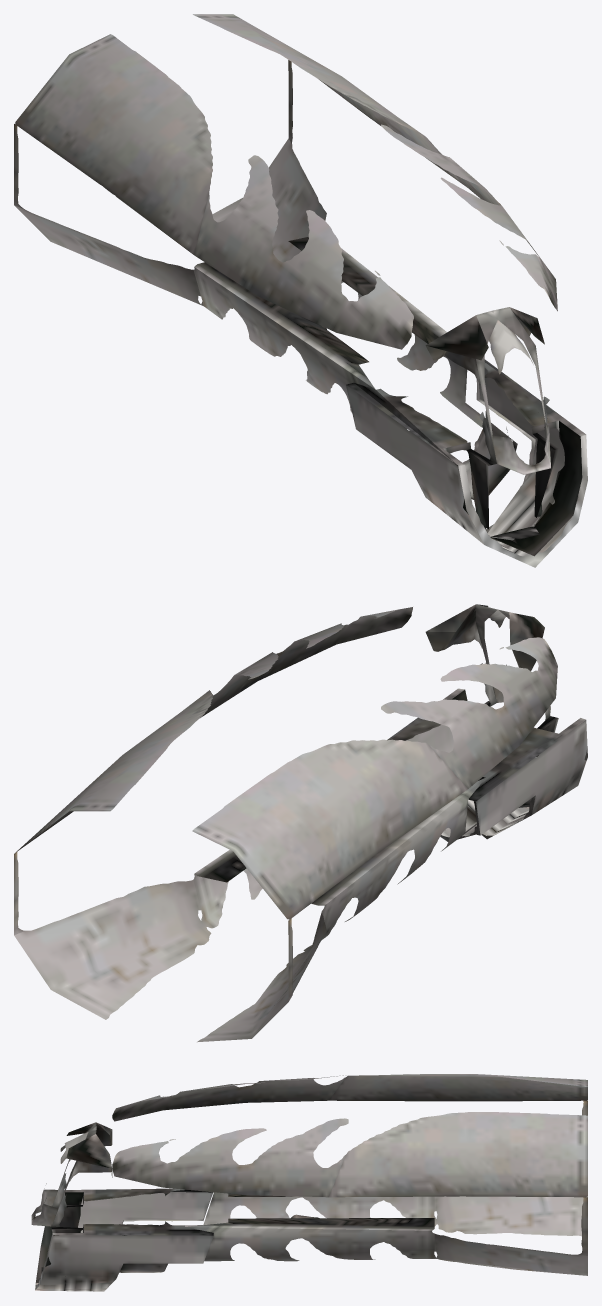
The model's file is hutt_fighter_heavy_body_s01_l2.fbx.
3 views of the same model, one above another, from view 1: azimuth 30°, elevation 25°; view 2: azimuth 150°, elevation 25°; view 3: azimuth 270°, elevation 25° (orthographic). The views are drawn at different scales.
Parts seen in each view (by area): view 1: mesh_node; view 2: mesh_node; view 3: mesh_node.
Boxes of the visible parts, bbox=[...] form: mesh_node: bbox=[14, 14, 587, 567]; mesh_node: bbox=[14, 604, 587, 1042]; mesh_node: bbox=[31, 1074, 587, 1291].
Size of the model in its own units: 7.65 by 7.6 by 19.23.
1 material, 1 textured.
